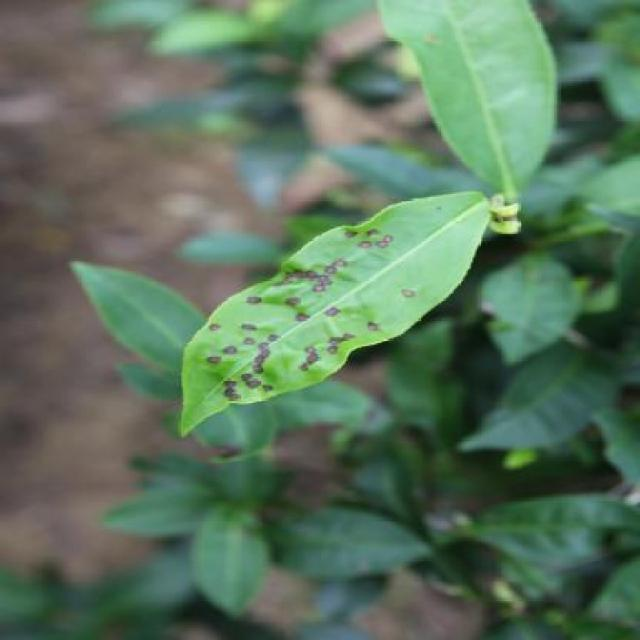Tea Mosquito bug infested leaf: (169, 216, 543, 404)
